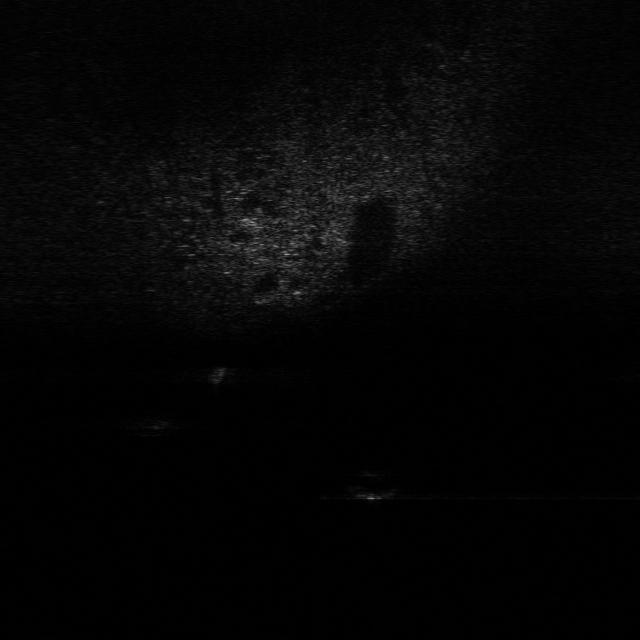ball: (328, 467, 398, 507)
circle cage: (127, 411, 183, 438)
cylinder: (204, 362, 230, 390)
